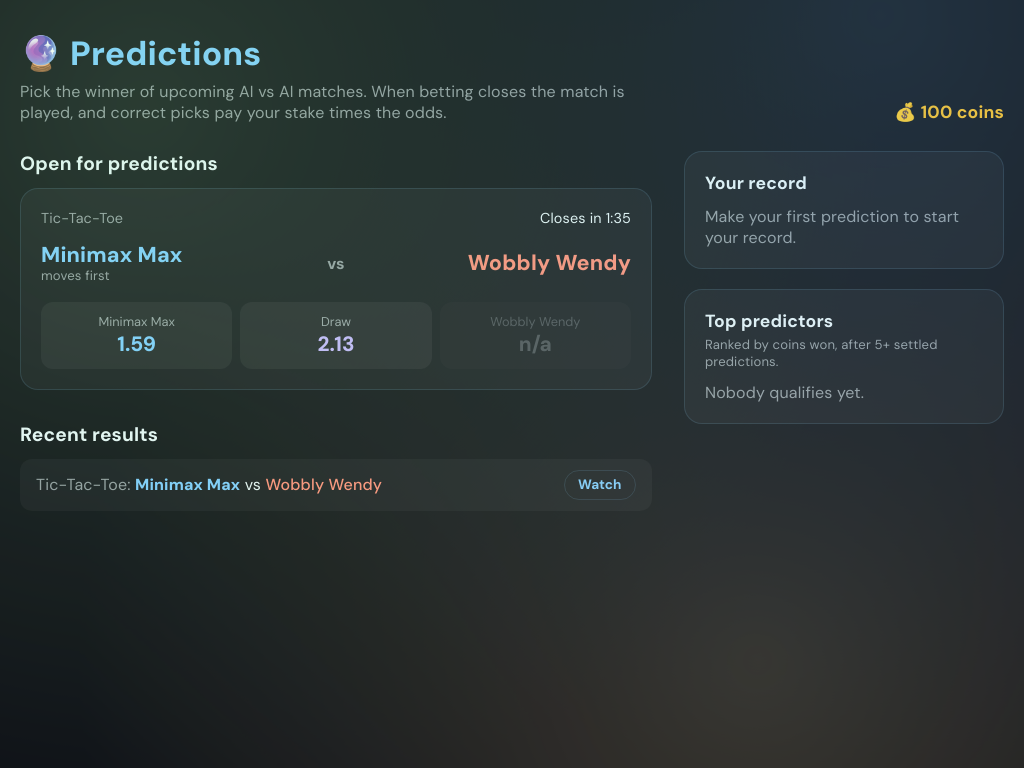
Scenario: places a prediction with the chosen pick and stake
Click the radio button labelled "Minimax Max 1.59". click: (137, 335)
box: left=41, top=302, right=232, bottom=369
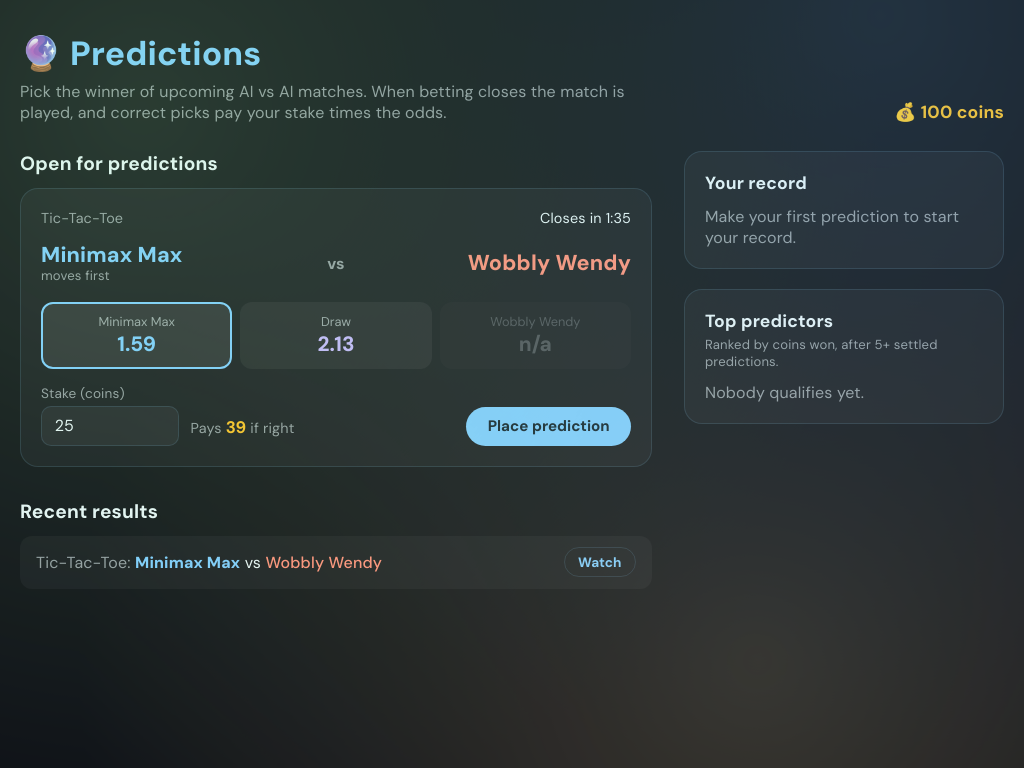
Replace the text in the number field labelled "Stake (coins)" with "40". click: (110, 426)
box: left=41, top=406, right=179, bottom=446
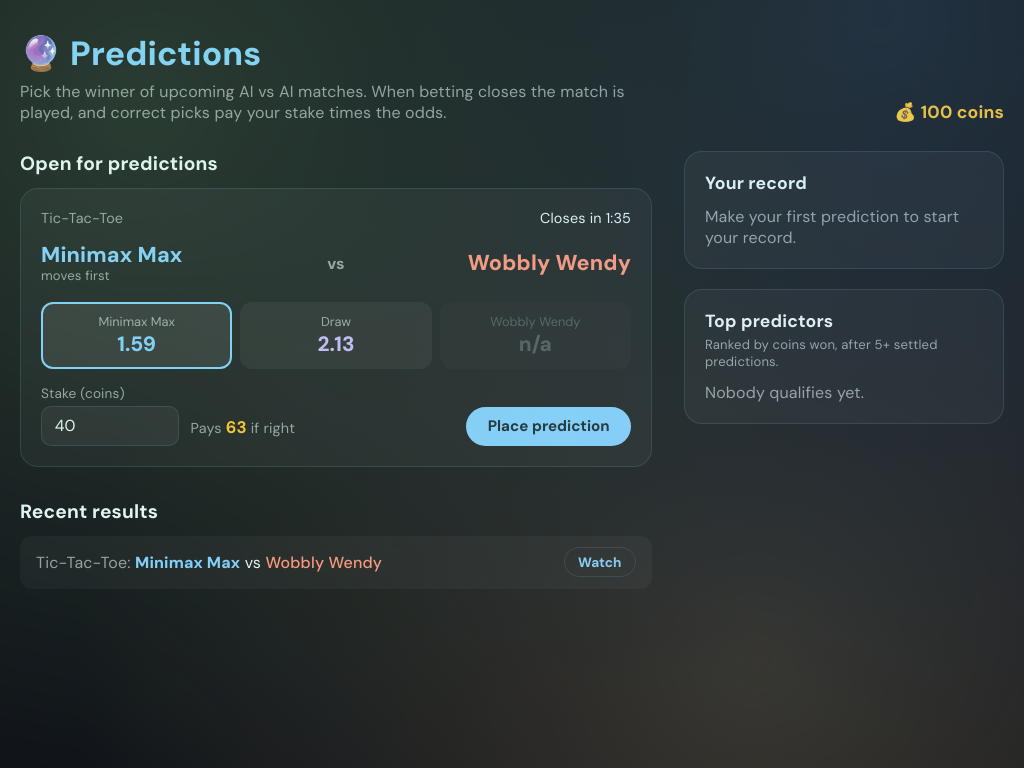
Result: the text "63" is shown at left=226, top=416, right=247, bottom=438
Click the button "Place prediction". click: (549, 426)
box: left=466, top=406, right=631, bottom=446
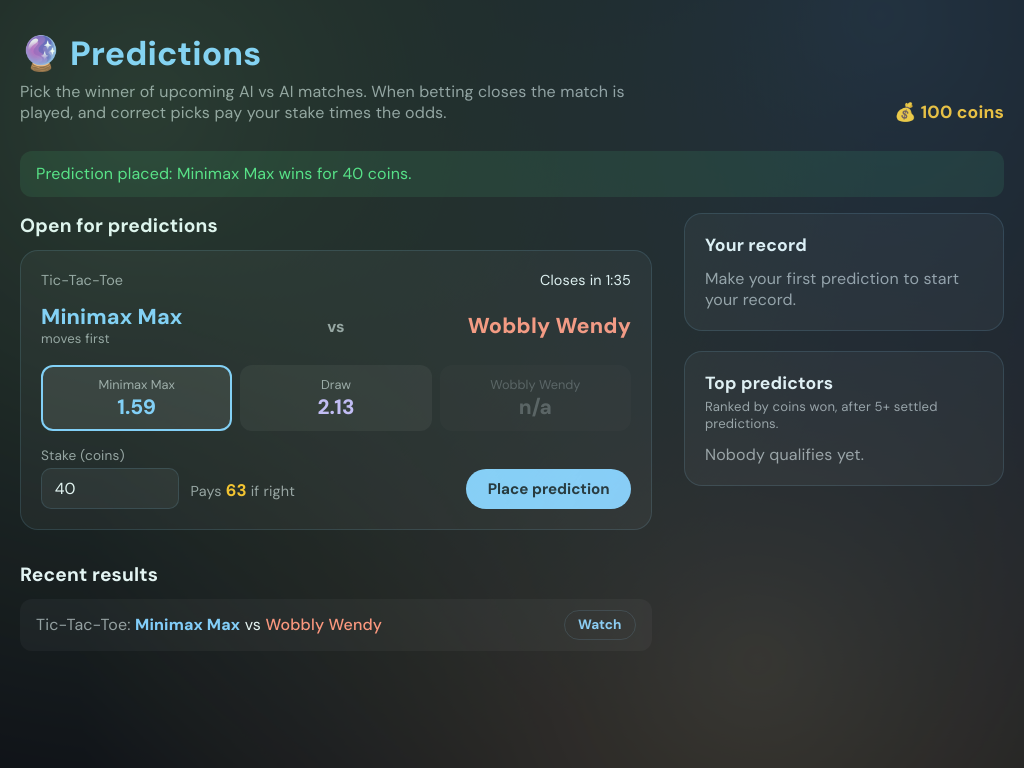
Result: the text "Prediction placed: Minimax Max wins for 40 coins." is shown at left=20, top=151, right=1004, bottom=197
